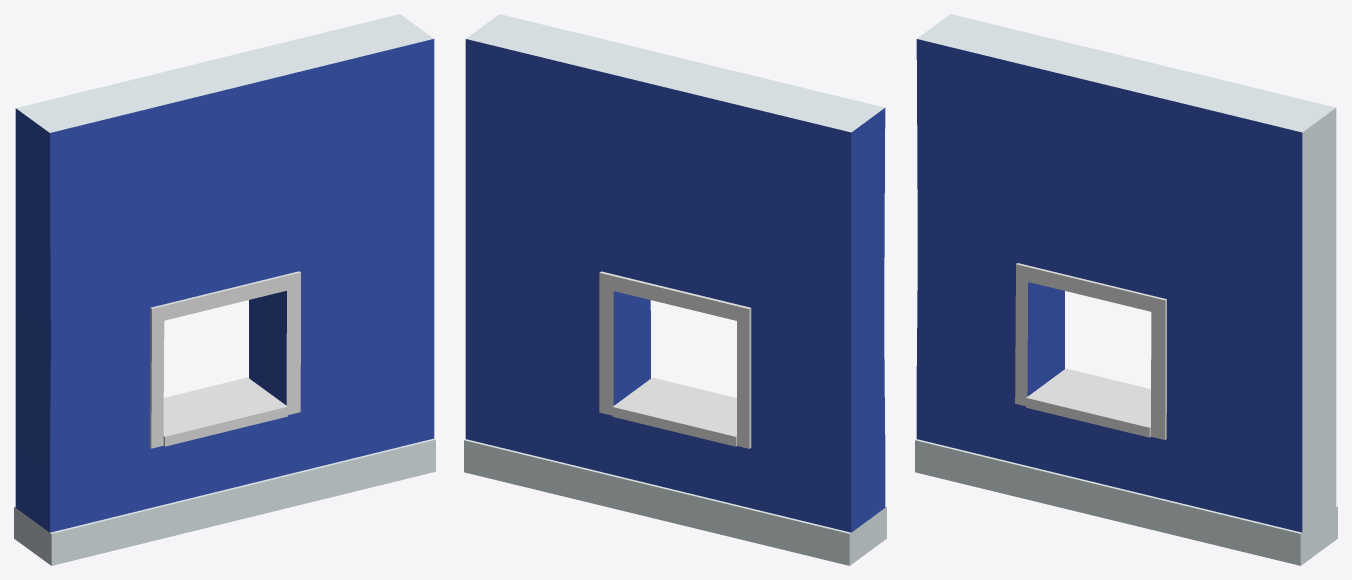
File: Interior_Wall_SquareWindow.fbx
3 renders of one model, left to right at view 1: azimuth 30°, elevation 25°; view 2: azimuth 150°, elevation 25°; view 3: azimuth 330°, elevation 25°, orthographic.
Parts seen in each view (by area): view 1: Cube.359; view 2: Cube.359; view 3: Cube.359.
Part boxes in pixels (<box>): Cube.359: <box>14,14,435,565</box>; Cube.359: <box>464,14,886,565</box>; Cube.359: <box>915,14,1337,565</box>.
Bounding box in the file's own units: 278 × 298 × 50.27.
